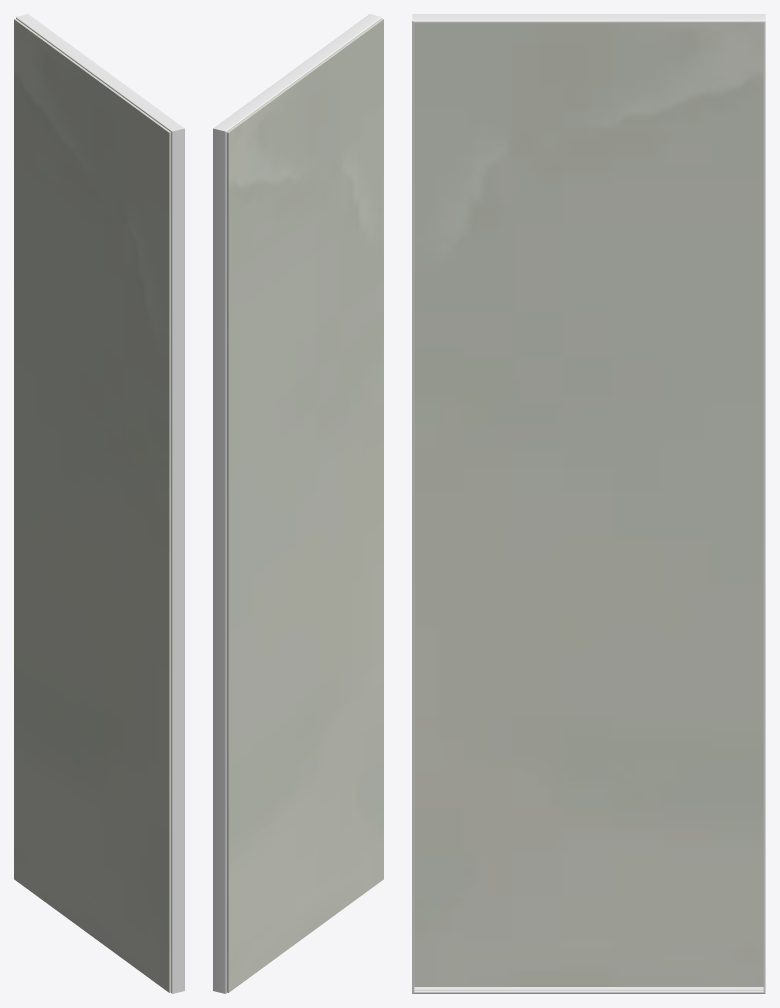
File: WALL VP 1080.glb
3 views of the same model, side by side, from view 1: azimuth 30°, elevation 25°; view 2: azimuth 150°, elevation 25°; view 3: azimuth 270°, elevation 25° (orthographic). The views are drawn at different scales.
Bounding box in the file's own units: 0.02 × 1.08 × 0.356.
2 materials, 1 textured.
